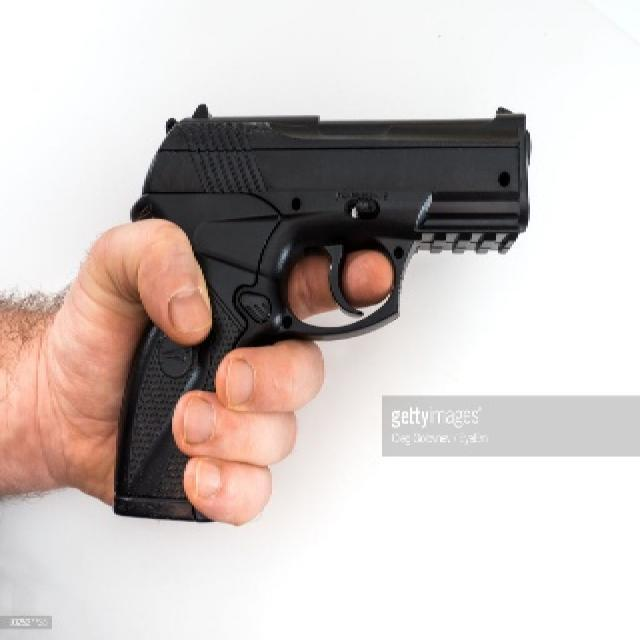weapon: (104, 100, 536, 526)
